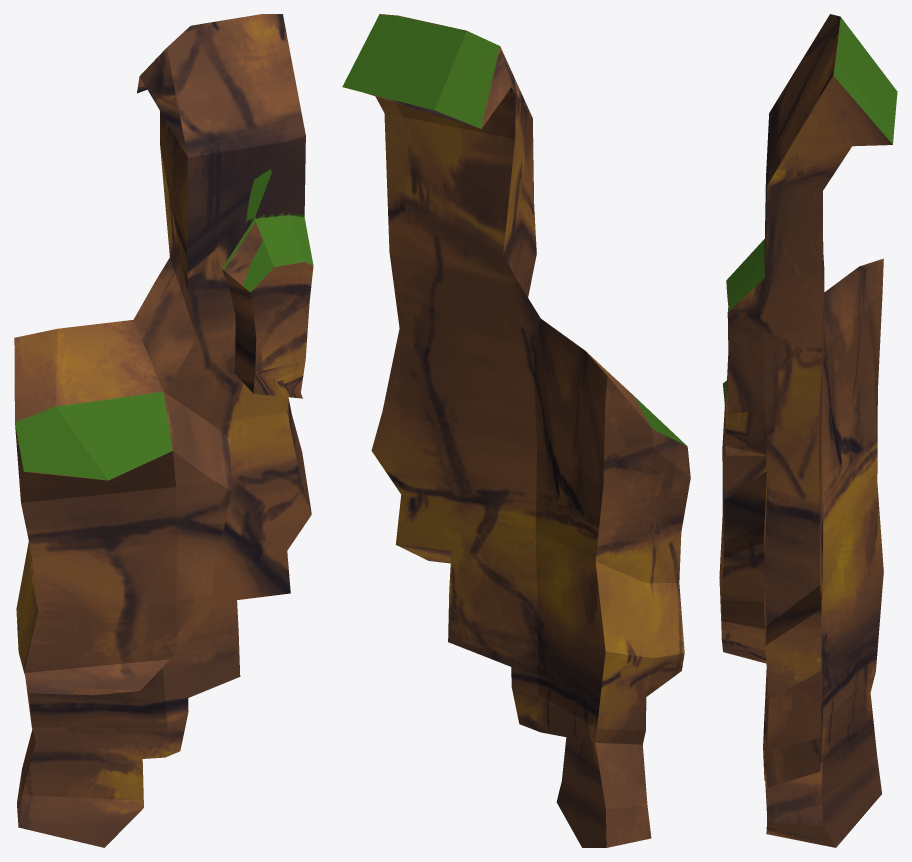
File: sali12.obj
3 renders of one model, left to right at view 1: azimuth 30°, elevation 25°; view 2: azimuth 150°, elevation 25°; view 3: azimuth 270°, elevation 25°, orthographic. The views are drawn at different scales.
Visible parts, largest first — view 1: Plane.002_Plane.003; view 2: Plane.002_Plane.003; view 3: Plane.002_Plane.003.
Boxes of the visible parts, bbox=[...] form: Plane.002_Plane.003: bbox=[14, 14, 313, 847]; Plane.002_Plane.003: bbox=[342, 14, 690, 847]; Plane.002_Plane.003: bbox=[719, 14, 897, 847].
Bounding box in the file's own units: 129 × 324 × 58.4.
1 material, 1 textured.
